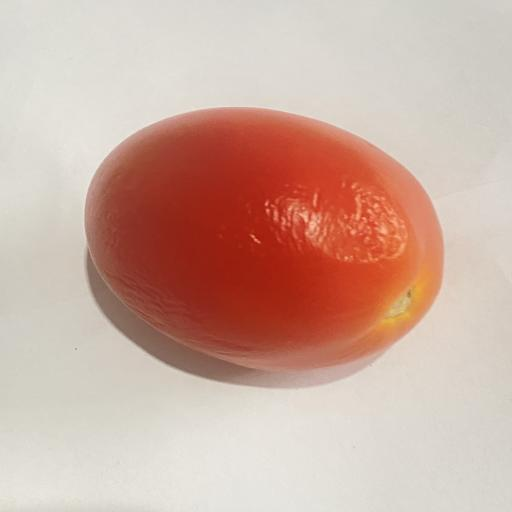spoiled: (85, 108, 443, 370)
